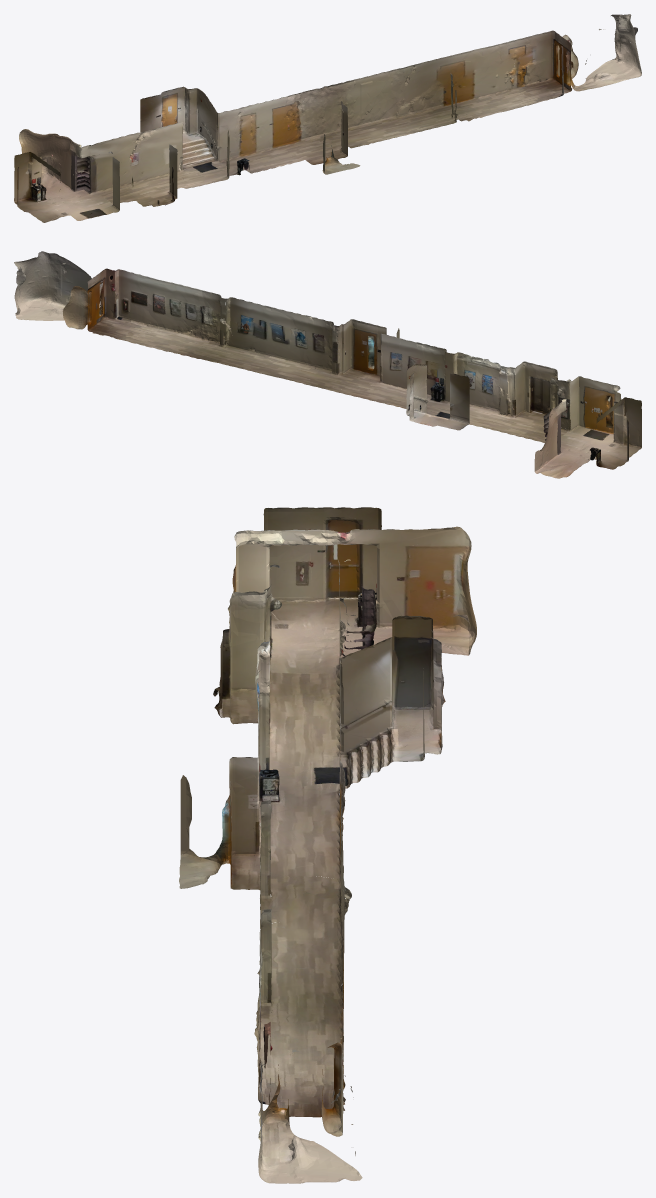
The picture shows the model from 3 angles, top to bottom: view 1: azimuth 30°, elevation 25°; view 2: azimuth 150°, elevation 25°; view 3: azimuth 270°, elevation 25°; orthographic projection. The views are drawn at different scales.
Bounding box in the file's own units: 38.82 × 3.96 × 8.25.
4 materials, 4 textured.
